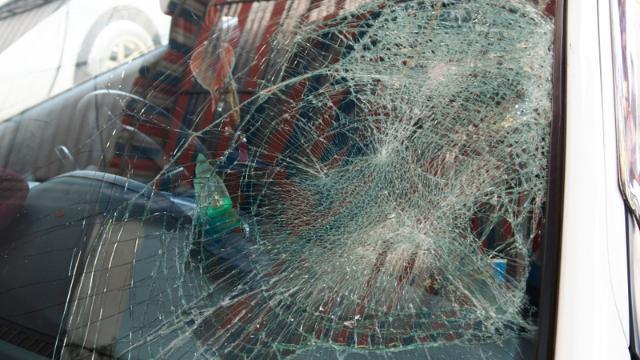Windshield: (52, 0, 542, 360)
